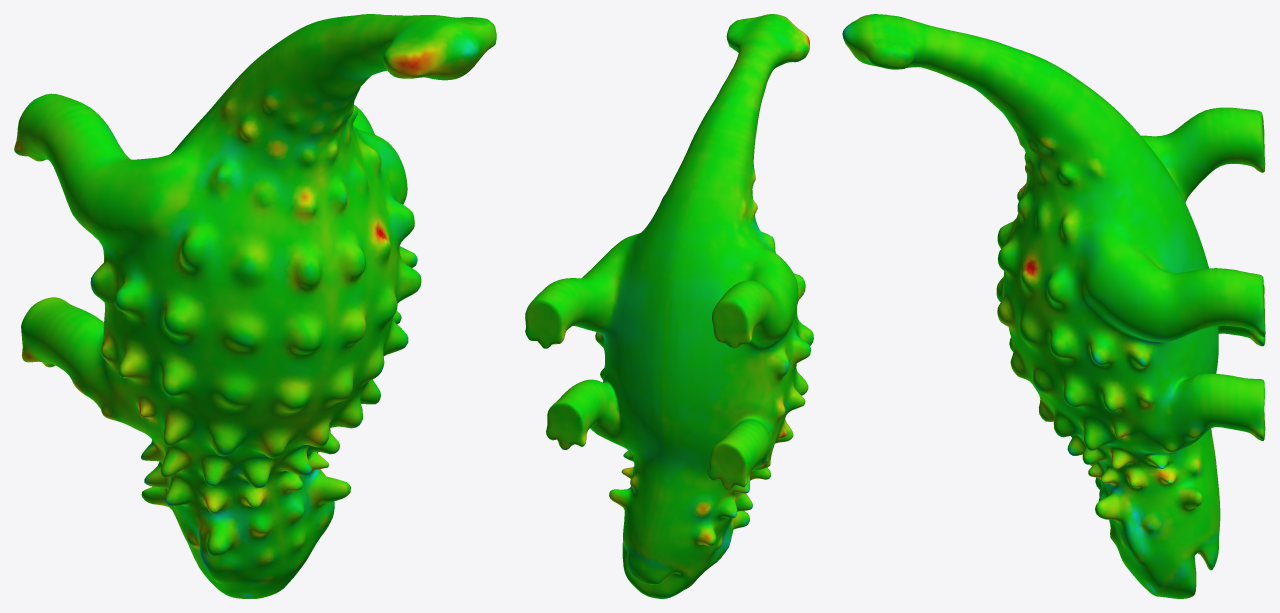
The model's file is all=0.000686-hole=0.002051-mgcn-wo-refine.obj.
The picture shows the model from 3 angles, left to right: view 1: azimuth 30°, elevation 25°; view 2: azimuth 150°, elevation 25°; view 3: azimuth 270°, elevation 25°; orthographic projection. The views are drawn at different scales.
Bounding box in the file's own units: 62.18 × 127 × 83.09.
